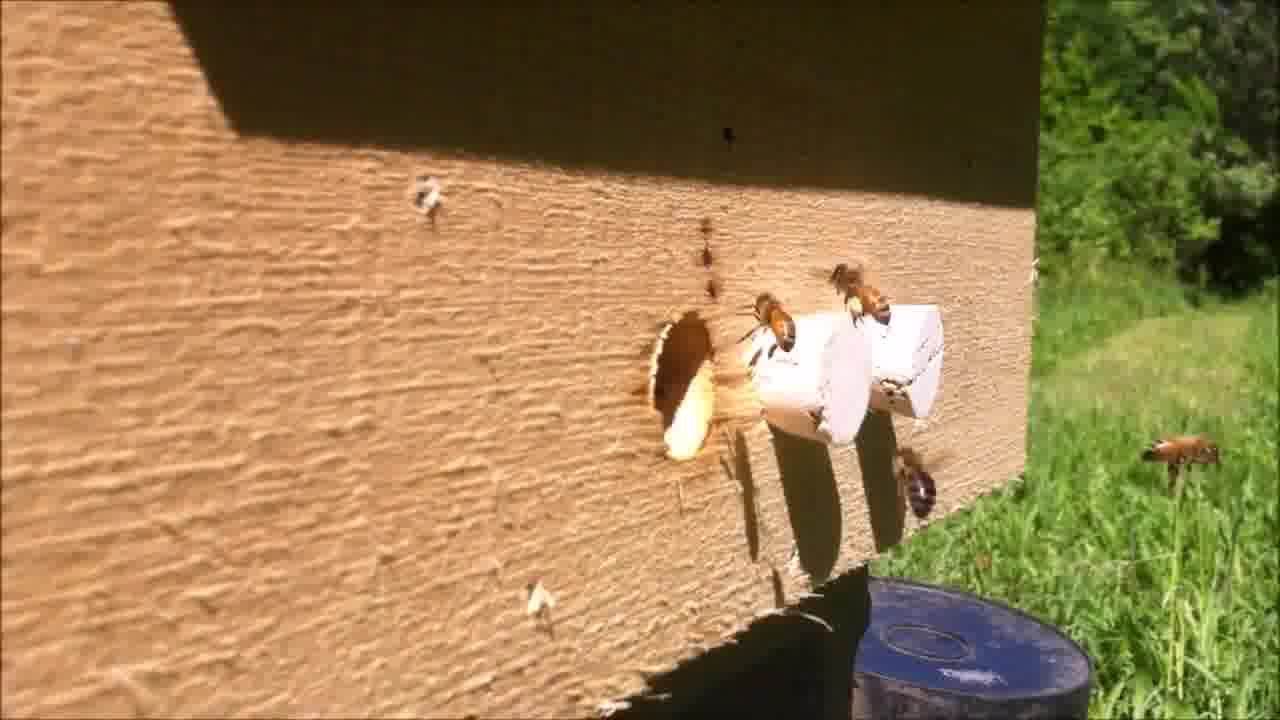pollen: (821, 257, 901, 331)
